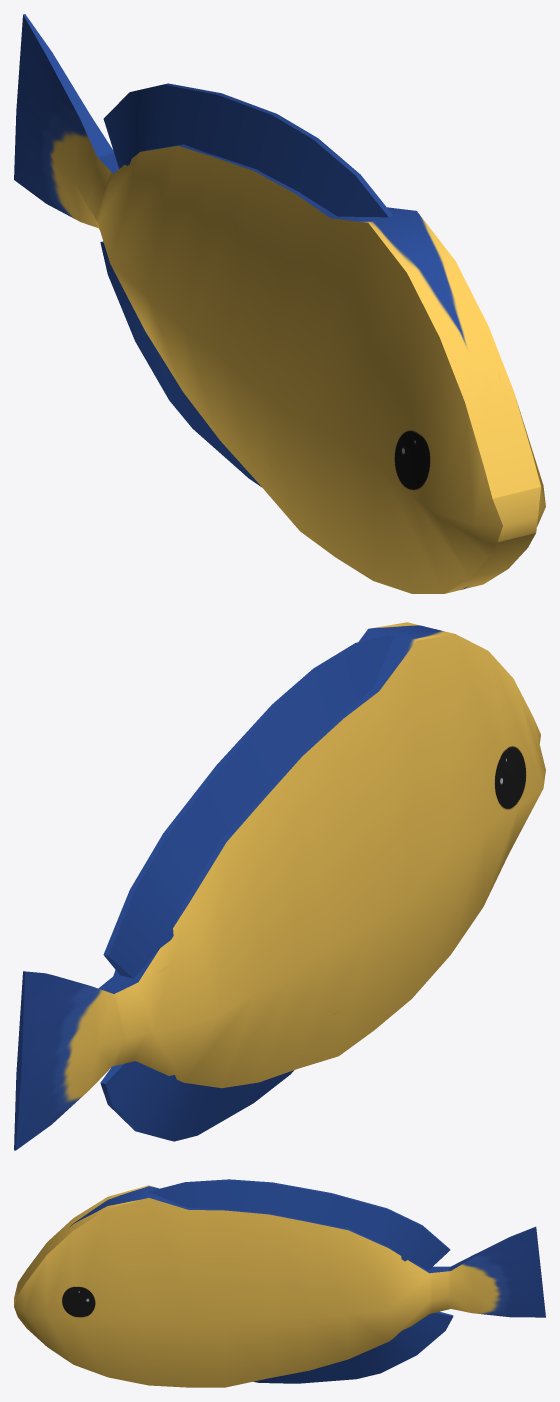
Rendered from Vis1.fbx.
3 renders of one model, top to bottom at view 1: azimuth 30°, elevation 25°; view 2: azimuth 150°, elevation 25°; view 3: azimuth 270°, elevation 25°, orthographic. The views are drawn at different scales.
Parts seen in each view (by area): view 1: FishDory_2; view 2: FishDory_2; view 3: FishDory_2.
Boxes of the visible parts, x1,y1,x2,y2 form: FishDory_2: (14,14,545,593); FishDory_2: (14,622,545,1150); FishDory_2: (14,1179,545,1387).
Size of the model in its own units: 0.191 by 0.6485 by 1.54.
